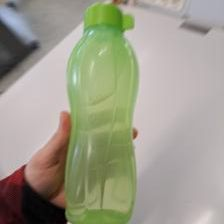bottle: (59, 3, 143, 223)
